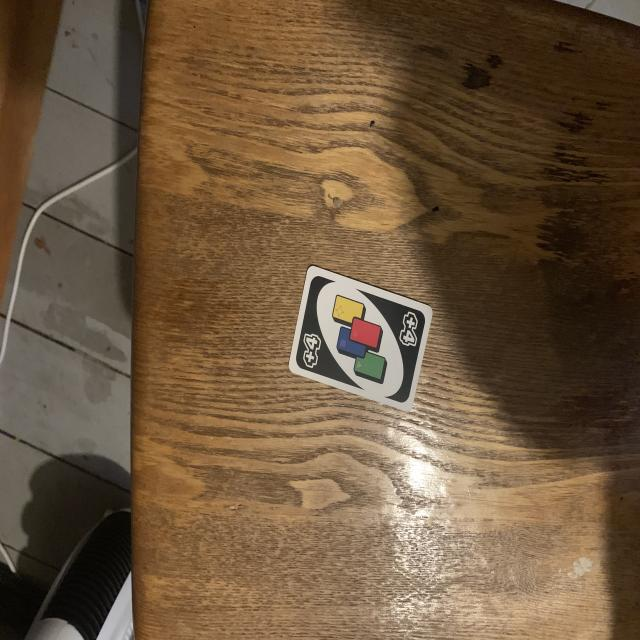lcolor-400: (297, 331, 326, 373)
